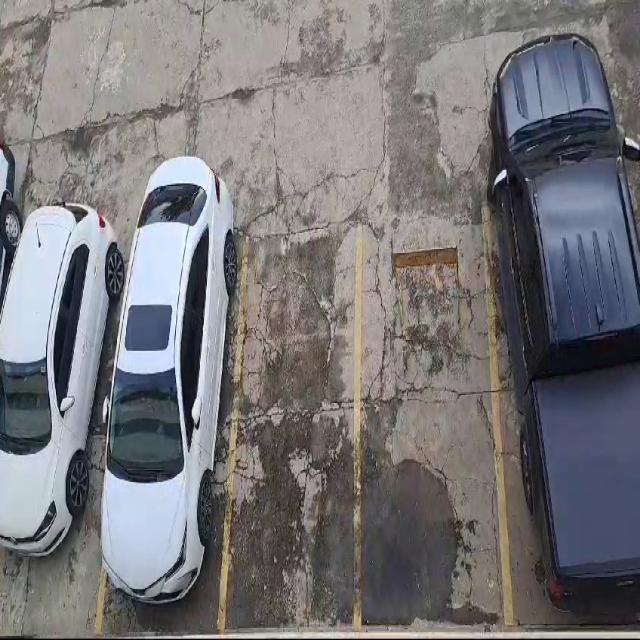empty: (357, 213, 509, 626), (220, 228, 360, 628)
notEmpty: (487, 191, 638, 628), (98, 243, 245, 628), (2, 258, 138, 627)
